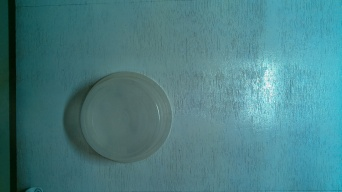f: (74, 67, 178, 163)
